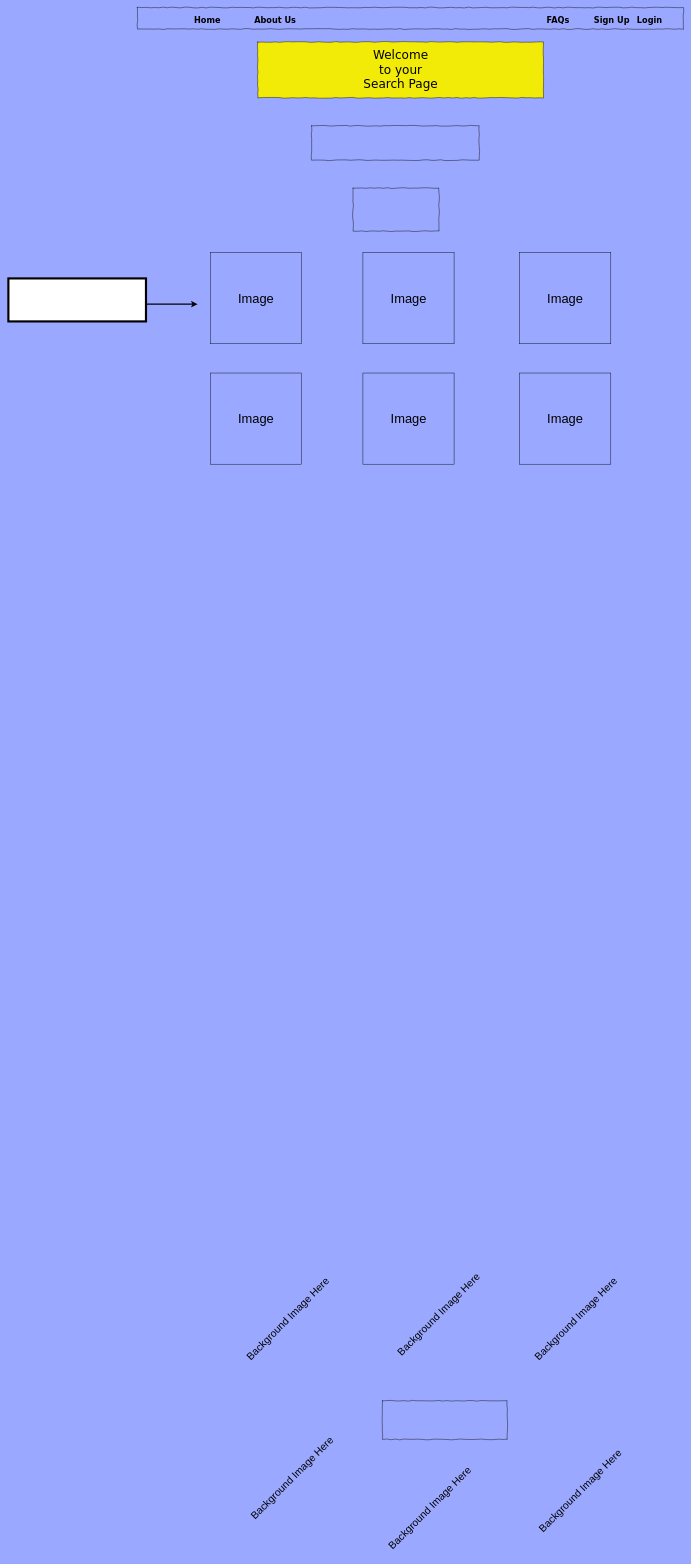
This 691x1564 diagram has some shape labels left out. Here are the shapes that lost their labels. From the top down, the centre of each, then its label:
the point at 395,142: Enter Search Here
the point at 396,209: SUBMIT
the point at 77,299: SEARCH RESULTS
the point at 444,1419: Powered by Giphy
